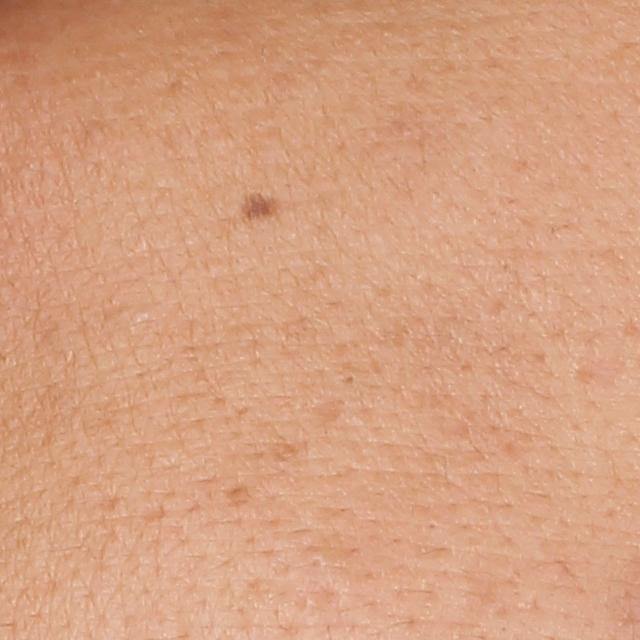atrophic_scar: (220, 481, 253, 510)
comedo: (338, 368, 359, 392), (309, 554, 327, 573)
nevus: (234, 191, 286, 225)
